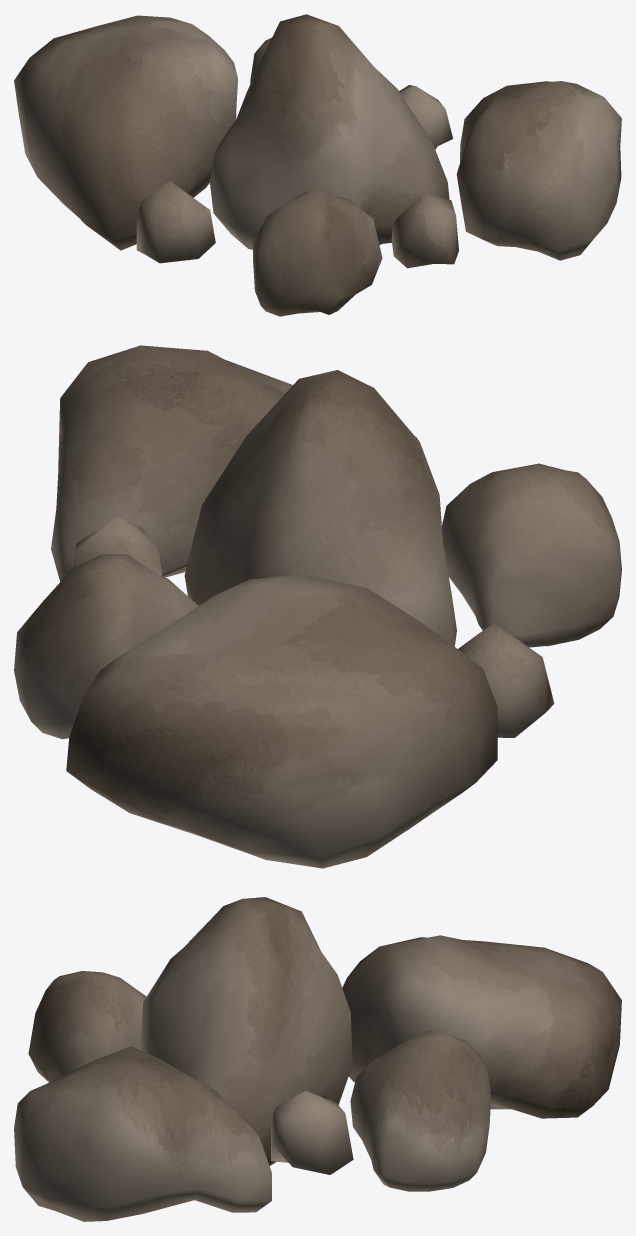
The model's file is pebbles 1.fbx.
3 renders of one model, top to bottom at view 1: azimuth 30°, elevation 25°; view 2: azimuth 150°, elevation 25°; view 3: azimuth 270°, elevation 25°, orthographic. The views are drawn at different scales.
Visible parts, largest first — view 1: Pebbles; view 2: Pebbles; view 3: Pebbles.
Boxes of the visible parts, x1,y1,x2,y2 form: Pebbles: (14,14,621,316); Pebbles: (14,345,621,868); Pebbles: (14,897,621,1221).
Bounding box in the file's own units: 177 × 96.65 × 206.
1 material, 1 textured.
